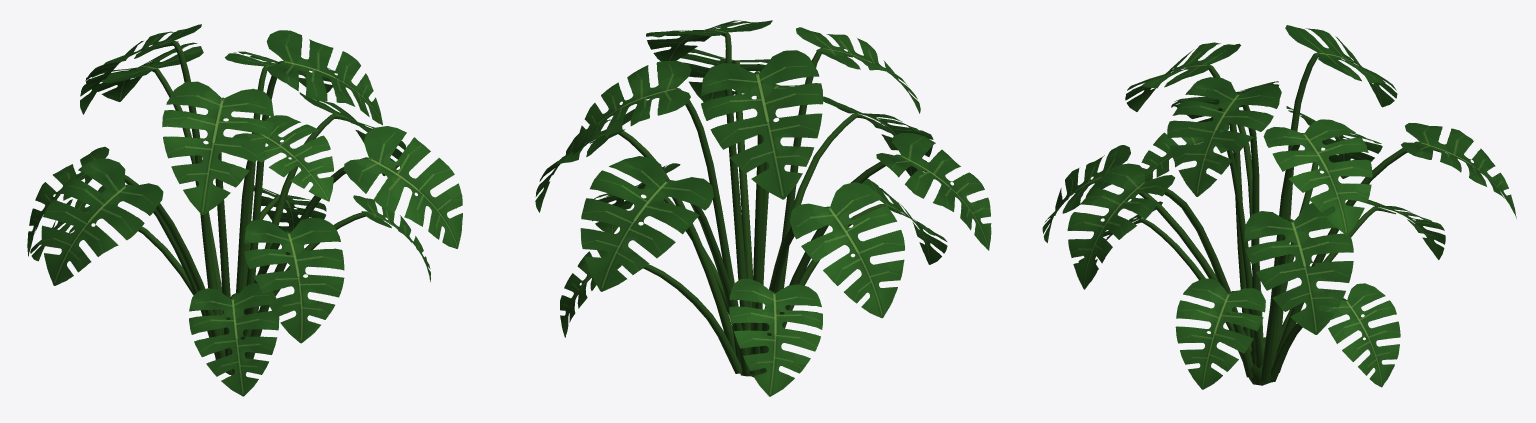
3 views of the same model, side by side, from view 1: azimuth 30°, elevation 25°; view 2: azimuth 150°, elevation 25°; view 3: azimuth 270°, elevation 25° (orthographic). The views are drawn at different scales.
Visible parts, largest first — view 1: Mesh_MonsteraLeaves, Mesh_MonsteraStems; view 2: Mesh_MonsteraLeaves, Mesh_MonsteraStems; view 3: Mesh_MonsteraLeaves, Mesh_MonsteraStems.
Part boxes in pixels (x1,y1,x2,y2): Mesh_MonsteraLeaves: [27, 24, 462, 396]; Mesh_MonsteraStems: [80, 41, 389, 375]; Mesh_MonsteraLeaves: [535, 20, 991, 396]; Mesh_MonsteraStems: [589, 32, 925, 377]; Mesh_MonsteraLeaves: [1042, 25, 1516, 389]; Mesh_MonsteraStems: [1128, 52, 1447, 385].
Size of the model in its own units: 1.67 by 1.35 by 1.76.
2 materials, 2 textured.
